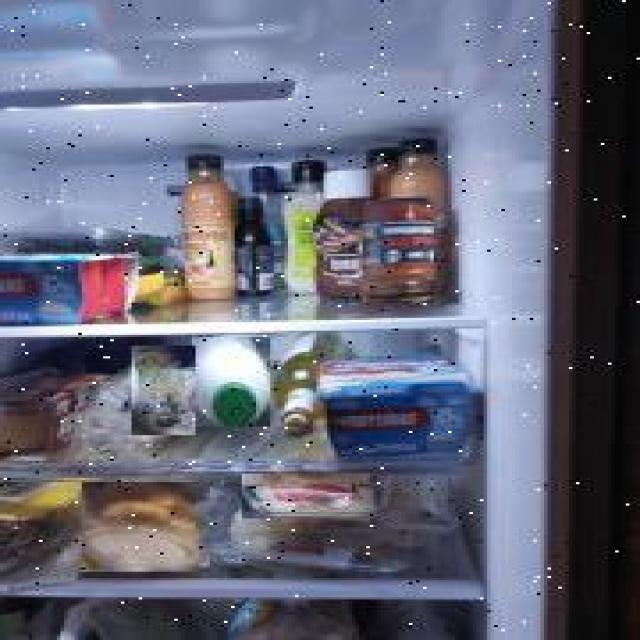asparagus: (134, 347, 198, 436)
cheese: (242, 474, 380, 518)
humus: (84, 482, 212, 572)
milk: (194, 337, 272, 427)
pineapple: (0, 480, 82, 574)
tomato_sauce: (362, 202, 433, 304)
